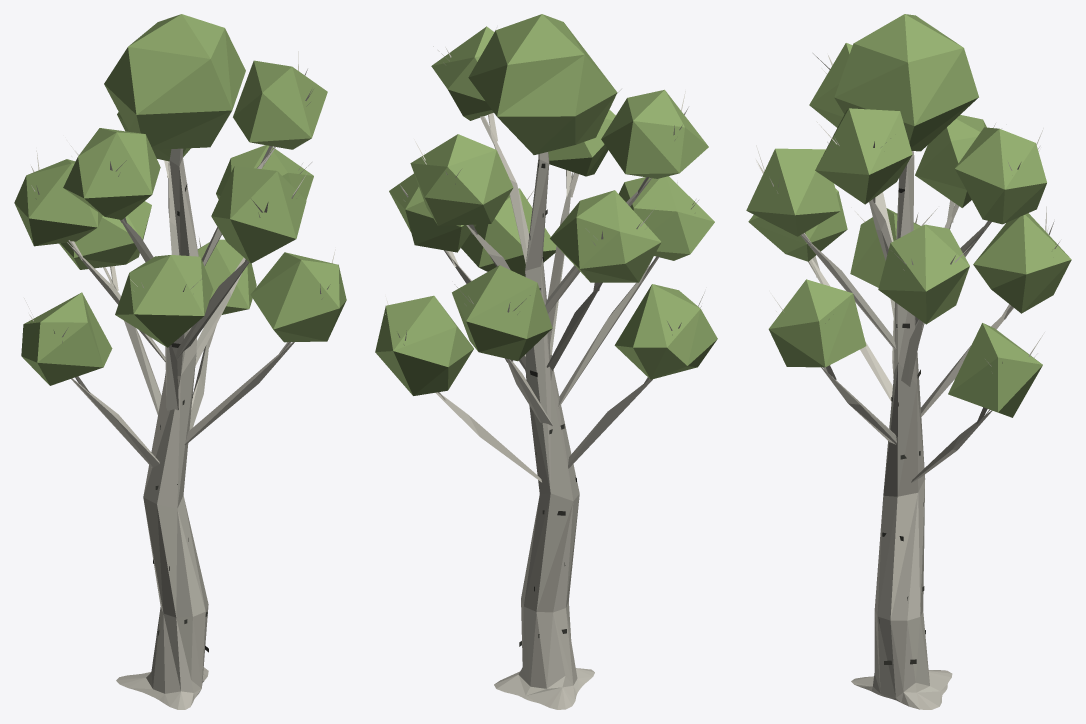
The model's file is birch_spring.glb.
3 renders of one model, left to right at view 1: azimuth 30°, elevation 25°; view 2: azimuth 150°, elevation 25°; view 3: azimuth 270°, elevation 25°, orthographic.
Visible parts, largest first — view 1: leaves, branches; view 2: leaves, branches; view 3: leaves, branches.
Part boxes in pixels (x1,y1,x2,y2): leaves: (14,14,346,385); branches: (24,51,335,709); leaves: (375,14,717,395); branches: (384,30,704,709); leaves: (746,14,1071,417); branches: (756,53,1059,709).
Size of the model in its own units: 2.7 by 5.7 by 2.48.
